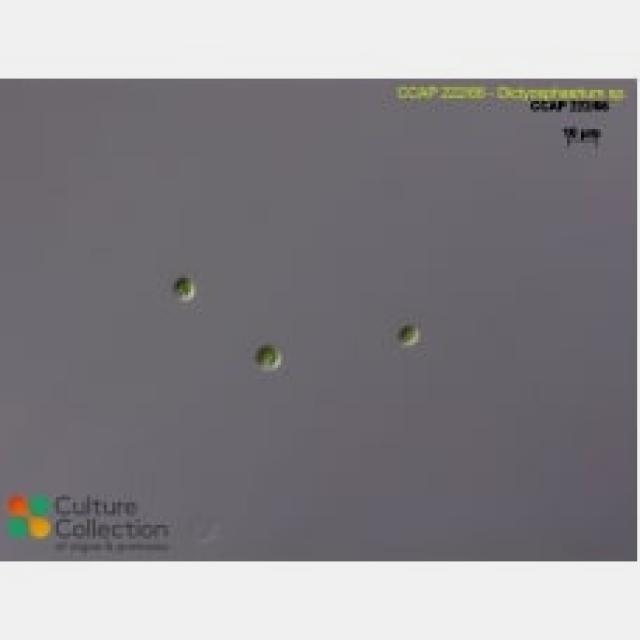Green Algae: (250, 340, 283, 373), (390, 320, 421, 354), (171, 269, 197, 306)
